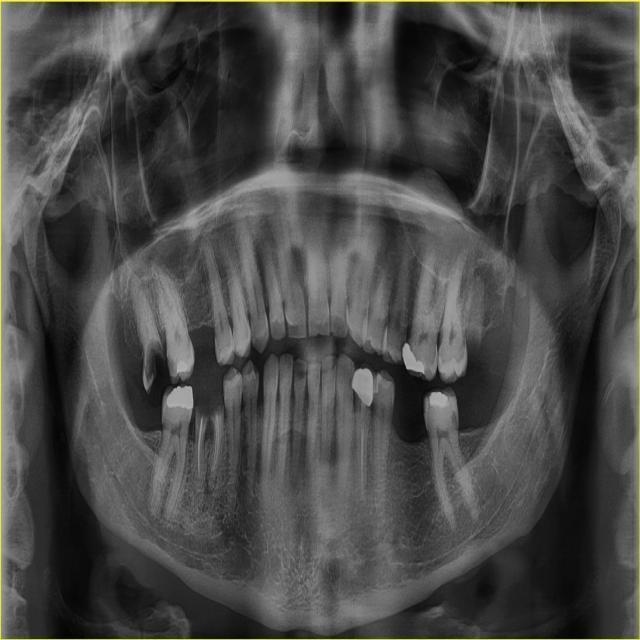Caries: (397, 327, 407, 361), (166, 353, 177, 376), (451, 408, 459, 437), (354, 394, 361, 415), (432, 348, 438, 363), (242, 396, 246, 417), (161, 422, 170, 431), (374, 401, 377, 421)
Crown: (351, 362, 377, 405)
Filling: (403, 342, 425, 374), (167, 388, 192, 408), (430, 391, 448, 409), (176, 361, 187, 373)
Missing teeth: (391, 389, 431, 456), (190, 325, 217, 371)
Periapical lesion: (126, 275, 148, 306), (204, 473, 217, 496)
Root Canal Treatment: (361, 404, 366, 486)
Root Piece: (195, 399, 210, 487), (208, 395, 224, 476)
